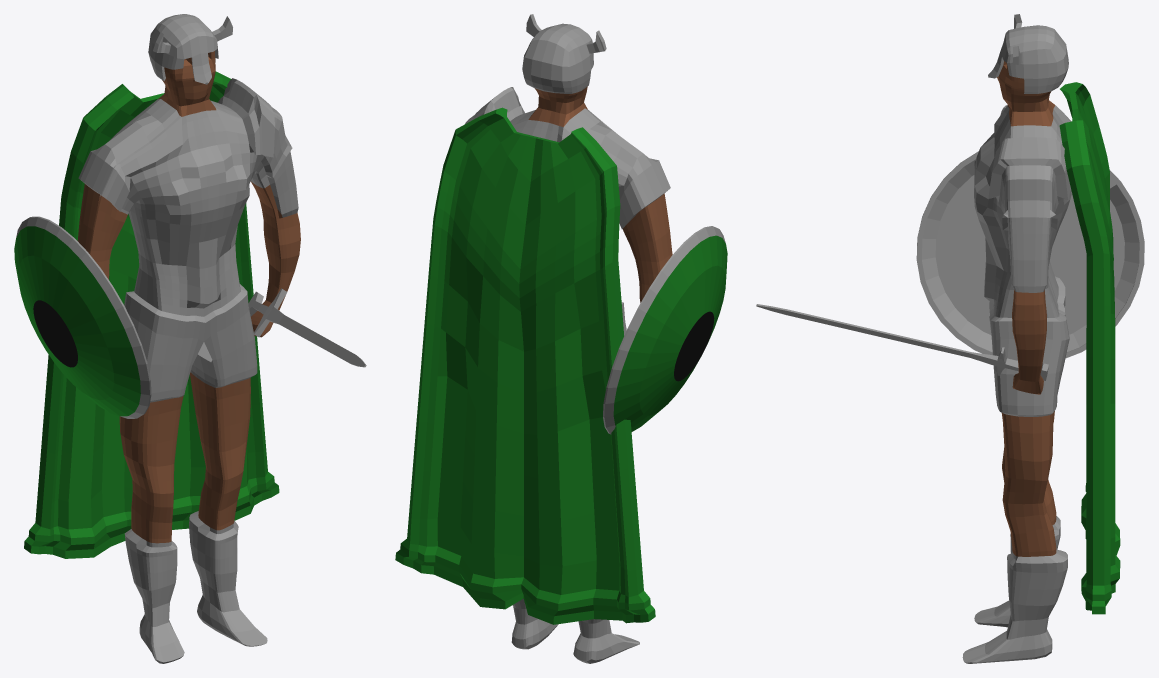
File: Heros.fbx
3 views of the same model, side by side, from view 1: azimuth 30°, elevation 25°; view 2: azimuth 150°, elevation 25°; view 3: azimuth 270°, elevation 25° (orthographic).
Parts seen in each view (by area): view 1: hero; view 2: hero; view 3: hero.
Boxes of the visible parts, x1,y1,x2,y2 form: hero: [14, 14, 366, 663]; hero: [395, 14, 727, 663]; hero: [756, 14, 1144, 663].
Bounding box in the file's own units: 390 × 866 × 497.
